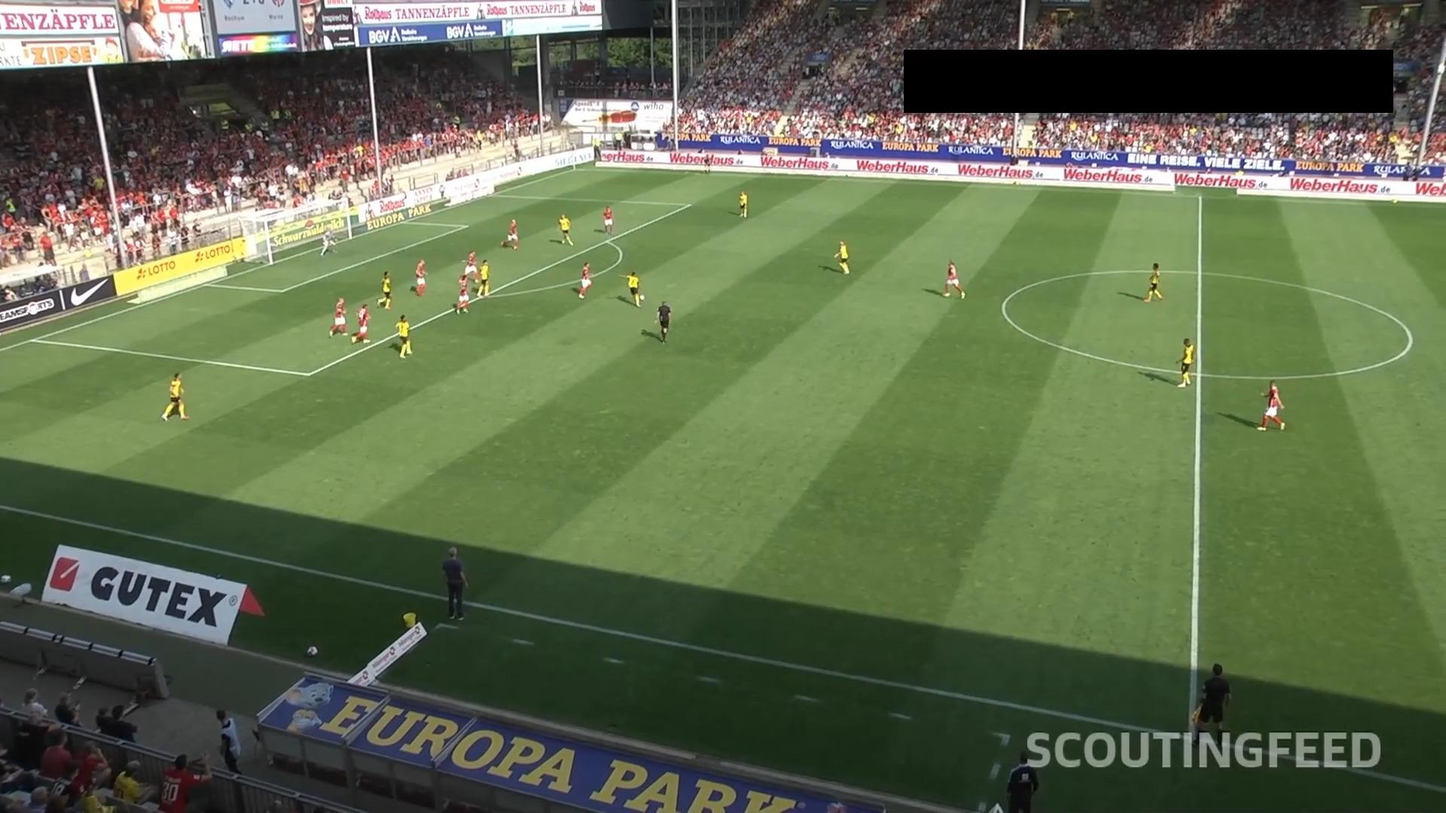ball: (639, 294, 645, 301)
goalkeeper: (318, 228, 340, 254)
player: (161, 370, 192, 421), (1258, 379, 1287, 432), (941, 258, 966, 300), (1178, 336, 1197, 390), (395, 313, 415, 357), (451, 279, 474, 316), (350, 303, 371, 341), (331, 297, 350, 336), (1145, 263, 1163, 304), (621, 271, 641, 305), (578, 262, 594, 301), (415, 257, 431, 295), (833, 241, 850, 276), (502, 219, 522, 248), (559, 213, 576, 245), (379, 270, 392, 308), (737, 190, 751, 218), (602, 207, 615, 232), (465, 253, 478, 276), (479, 259, 485, 296)
referee: (654, 301, 673, 344), (703, 154, 711, 176)
